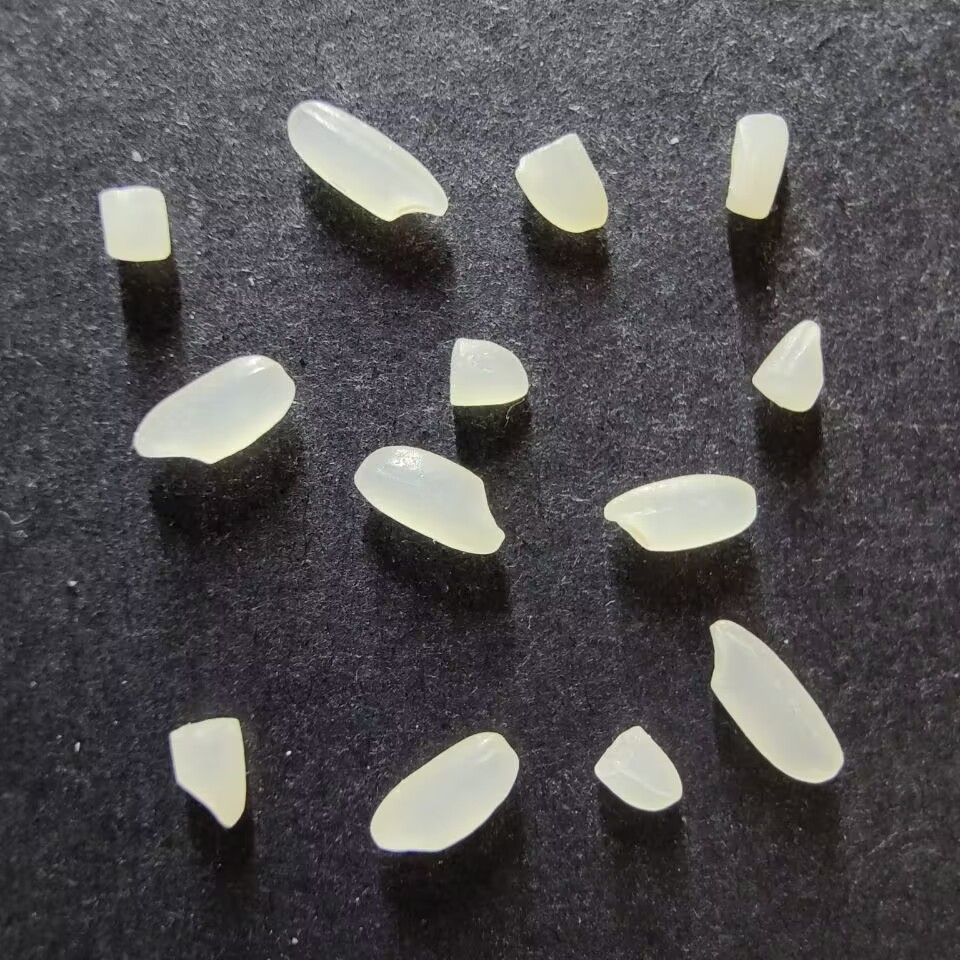broken: (514, 132, 608, 233), (169, 716, 246, 829), (594, 724, 683, 812), (724, 112, 789, 220), (751, 318, 824, 412), (447, 338, 529, 407), (99, 185, 170, 262)
rice: (709, 618, 844, 783), (286, 100, 449, 222), (369, 731, 520, 853), (132, 354, 295, 464), (353, 445, 505, 554), (603, 474, 757, 552)
